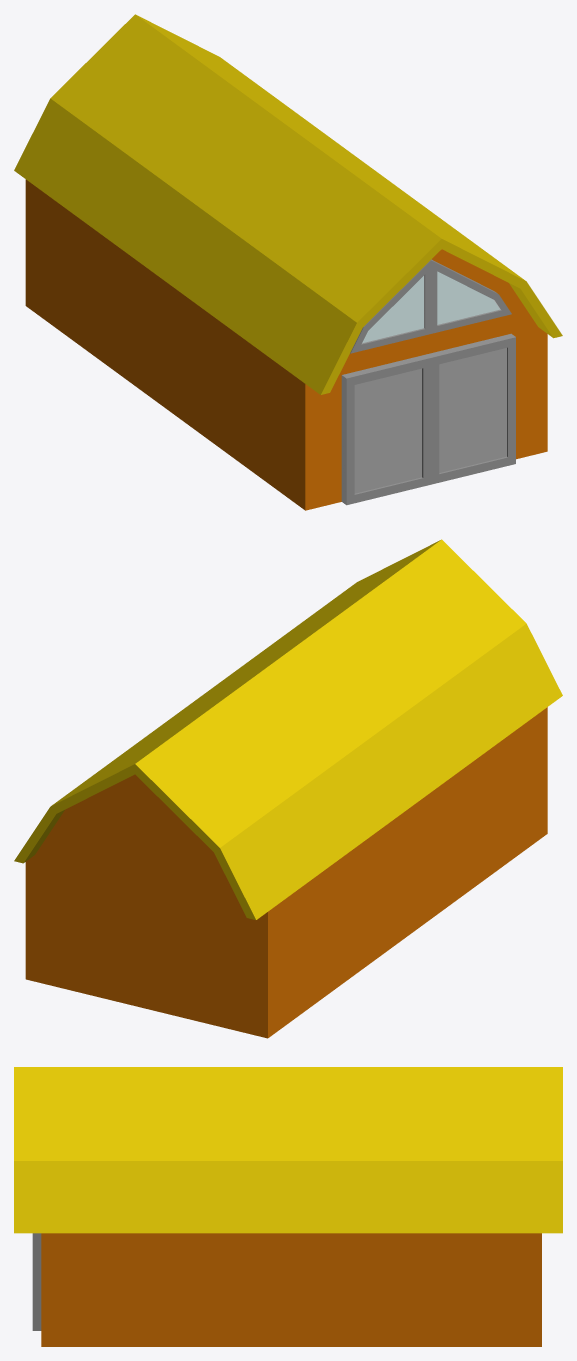
Rendered from playergarage.fbx.
3 renders of one model, top to bottom at view 1: azimuth 30°, elevation 25°; view 2: azimuth 150°, elevation 25°; view 3: azimuth 270°, elevation 25°, orthographic. The views are drawn at different scales.
Visible parts, largest first — view 1: group_0.002; view 2: group_0.002; view 3: group_0.002.
Boxes of the visible parts, x1,y1,x2,y2 form: group_0.002: [14, 14, 562, 510]; group_0.002: [14, 539, 562, 1038]; group_0.002: [14, 1067, 562, 1346].
Bounding box in the file's own units: 600 × 600 × 1315.
